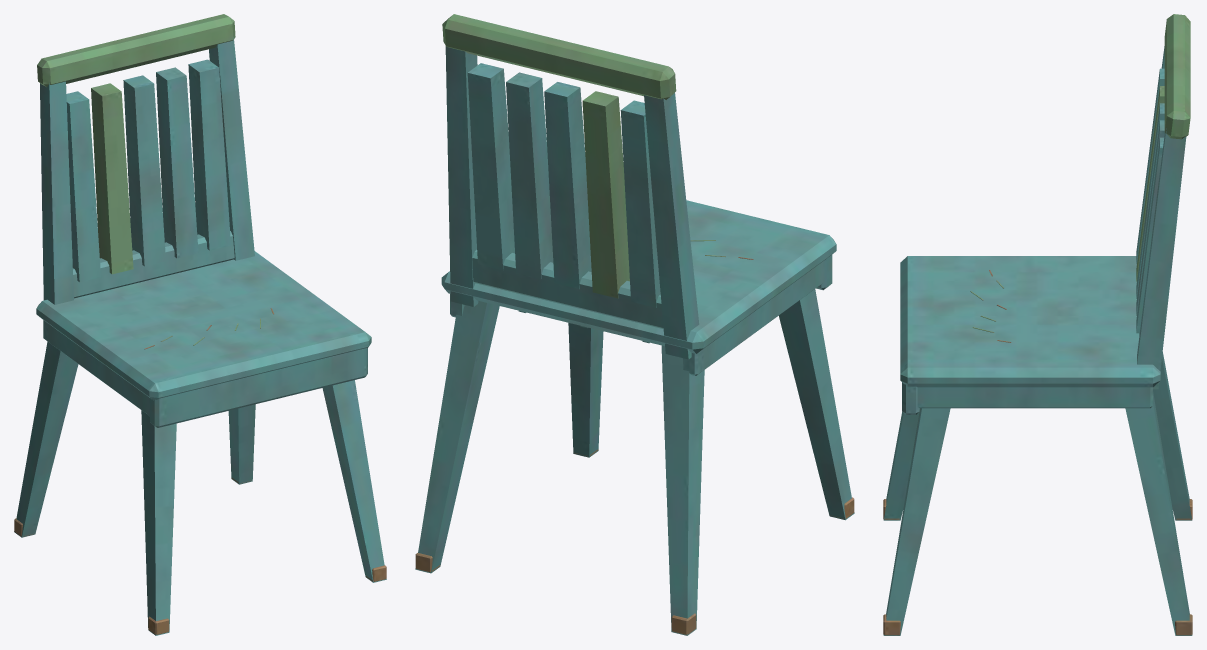
The model's file is L29_plastic_chair_v1.glb.
3 views of the same model, side by side, from view 1: azimuth 30°, elevation 25°; view 2: azimuth 150°, elevation 25°; view 3: azimuth 270°, elevation 25° (orthographic). The views are drawn at different scales.
Visible parts, largest first — view 1: Rounded molded seat; view 2: Rounded molded seat; view 3: Rounded molded seat.
Boxes of the visible parts, <box> form: Rounded molded seat: <box>14,14,386,635</box>; Rounded molded seat: <box>415,14,854,635</box>; Rounded molded seat: <box>883,14,1192,635</box>.
Size of the model in its own units: 0.4626 by 0.9 by 0.4925.
3 materials, 3 textured.
